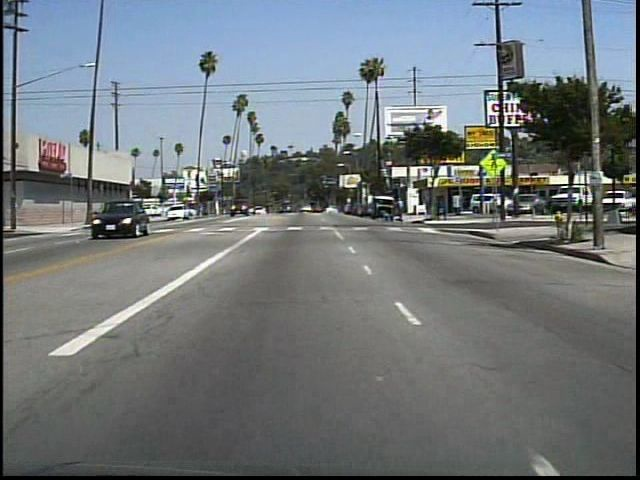person: (394, 194, 409, 225), (378, 207, 395, 227), (114, 198, 127, 224)
